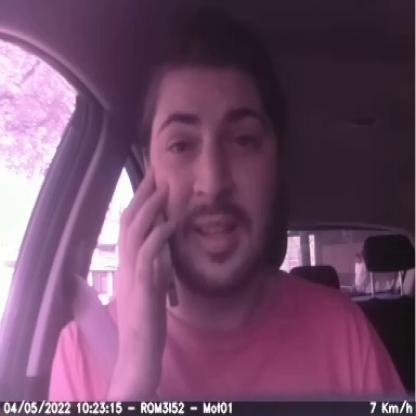phone: (132, 139, 188, 328)
